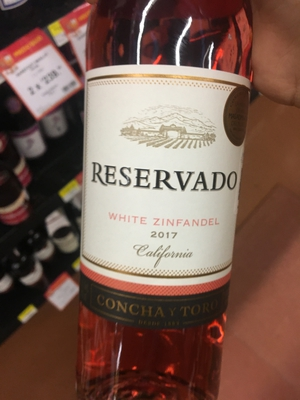reservado white zinfandel: (67, 7, 252, 400)
